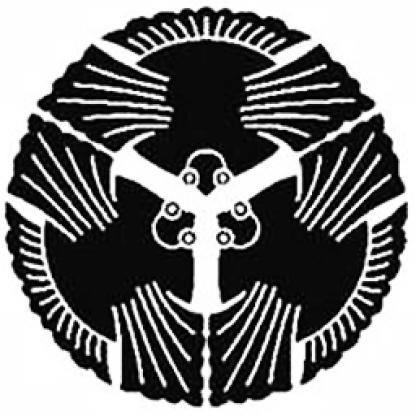kamon: (5, 8, 409, 406)
